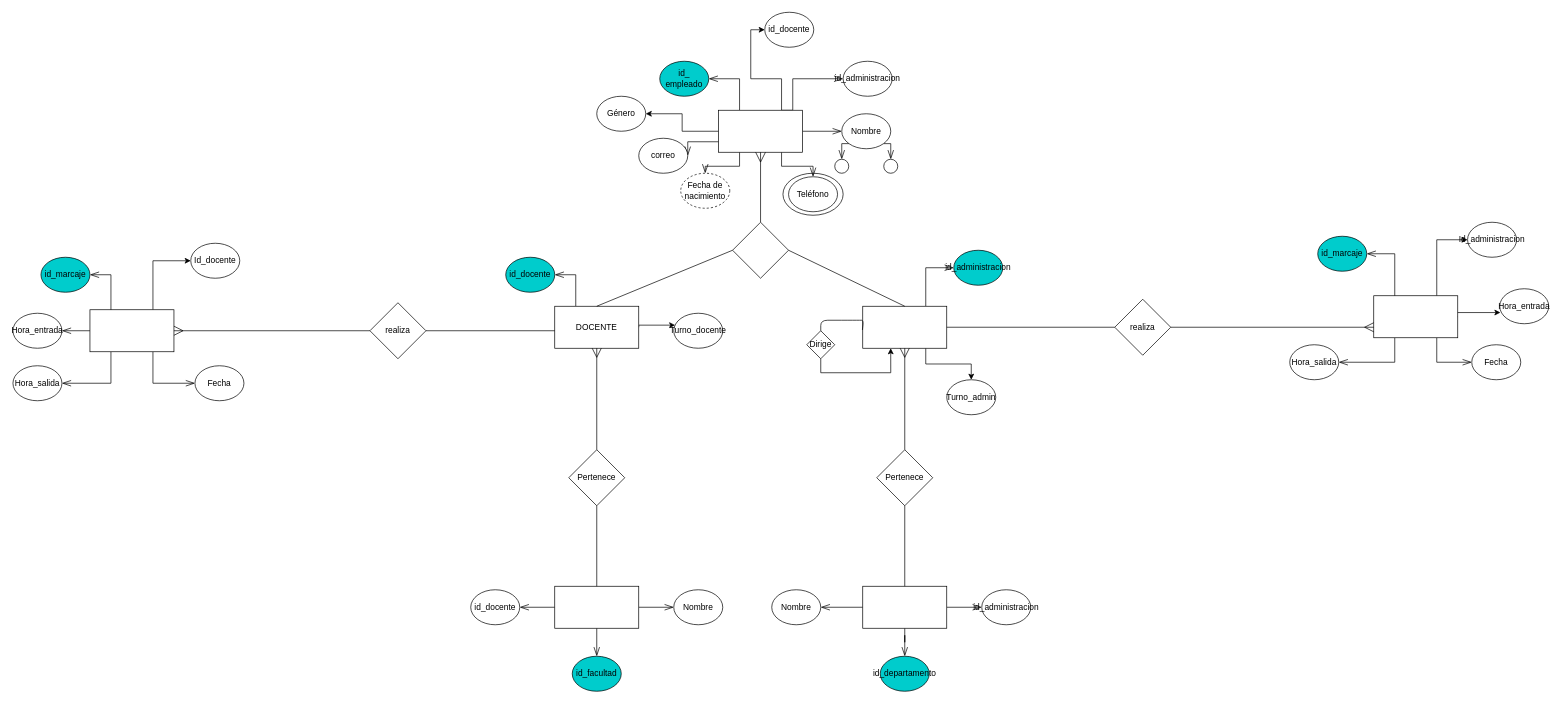
Some shapes in this 1562 by 704 pixel diagram are drawn without their labels. Each missing label, with the centre of its shape:
"ADMINISTRACIÓN" belongs at (904,327).
"DEPARTAMENTO" belongs at (904,607).
"EMPLEADO" belongs at (760,131).
"Es" belongs at (760,250).
"FACULTAD" belongs at (596,607).
"MARCAJE_ADMINISTRACION" belongs at (1415,316).
"MARCAJE_DOCENTE" belongs at (131,330).
